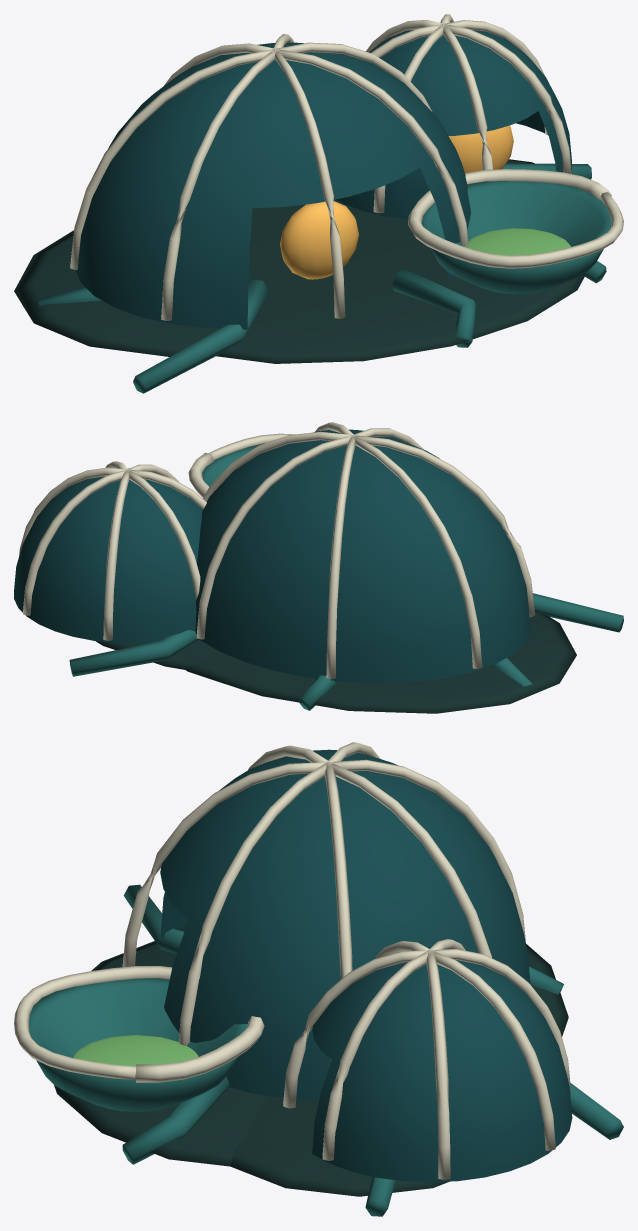
File: res_stable_habitat_a.obj
3 renders of one model, top to bottom at view 1: azimuth 30°, elevation 25°; view 2: azimuth 150°, elevation 25°; view 3: azimuth 270°, elevation 25°, orthographic. The views are drawn at different scales.
Visible parts, largest first — view 1: inhabited_shell.001, irregular_anchoring_lobe.005, inhabited_shell.002, irregular_anchoring_lobe.003, open_living_cup, grown_cup_lip, warm_occupied_cavity.001, anchoring_root.011, growth_seam.010, growth_seam.011, growth_seam.013, growth_seam.012 (+14 smaller); view 2: inhabited_shell.001, inhabited_shell.002, irregular_anchoring_lobe.003, growth_seam.010, growth_seam.008, anchoring_root.008, growth_seam.009, growth_seam.011, anchoring_root.011, growth_seam.015, growth_seam.016, growth_seam.007 (+9 smaller); view 3: inhabited_shell.001, inhabited_shell.002, open_living_cup, irregular_anchoring_lobe.004, irregular_anchoring_lobe.005, grown_cup_lip, growth_seam.013, growth_seam.012, growth_seam.008, visible_cup_contents, growth_seam.014, growth_seam.015 (+11 smaller).
Part boxes in pixels (left/top/right/bottom): inhabited_shell.001: left=75, top=42, right=470, bottom=329; irregular_anchoring_lobe.005: left=216, top=239, right=585, bottom=363; inhabited_shell.002: left=336, top=30, right=571, bottom=219; irregular_anchoring_lobe.003: left=14, top=206, right=295, bottom=356; open_living_cup: left=421, top=181, right=611, bottom=294; grown_cup_lip: left=408, top=169, right=623, bottom=268; warm_occupied_cavity.001: left=280, top=201, right=358, bottom=279; anchoring_root.011: left=133, top=279, right=269, bottom=393; growth_seam.010: left=70, top=49, right=275, bottom=269; growth_seam.011: left=161, top=49, right=277, bottom=320; growth_seam.013: left=276, top=49, right=468, bottom=246; growth_seam.012: left=274, top=49, right=345, bottom=318; inhabited_shell.001: left=195, top=429, right=530, bottom=683; inhabited_shell.002: left=14, top=468, right=202, bottom=643; irregular_anchoring_lobe.003: left=185, top=612, right=576, bottom=713; growth_seam.010: left=352, top=435, right=482, bottom=669; growth_seam.008: left=196, top=435, right=353, bottom=639; anchoring_root.008: left=69, top=630, right=198, bottom=676; growth_seam.009: left=326, top=436, right=355, bottom=678; growth_seam.011: left=353, top=435, right=534, bottom=617; anchoring_root.011: left=533, top=593, right=623, bottom=632; growth_seam.015: left=23, top=469, right=127, bottom=615; growth_seam.016: left=103, top=470, right=129, bottom=640; growth_seam.007: left=203, top=431, right=353, bottom=501; inhabited_shell.001: left=160, top=749, right=530, bottom=1100; inhabited_shell.002: left=312, top=947, right=572, bottom=1182; open_living_cup: left=29, top=978, right=247, bottom=1111; irregular_anchoring_lobe.004: left=230, top=1096, right=448, bottom=1196; irregular_anchoring_lobe.005: left=54, top=941, right=267, bottom=1166; grown_cup_lip: left=14, top=966, right=264, bottom=1082; growth_seam.013: left=179, top=762, right=330, bottom=1045; growth_seam.012: left=122, top=762, right=328, bottom=967; growth_seam.008: left=328, top=762, right=492, bottom=957; visible_cup_contents: left=73, top=1035, right=198, bottom=1066; growth_seam.014: left=426, top=951, right=450, bottom=1179; growth_seam.015: left=429, top=950, right=555, bottom=1150.
Bounding box in the file's own units: 3.79 × 1.47 × 3.01.
